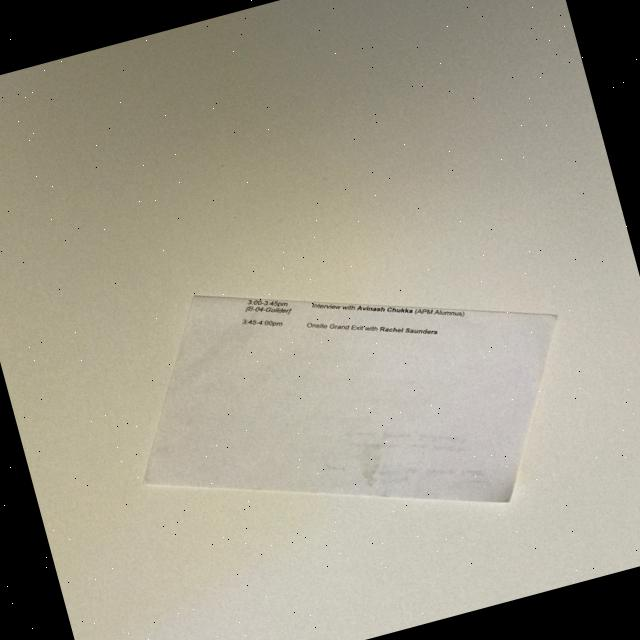paper: (98, 204, 602, 593)
